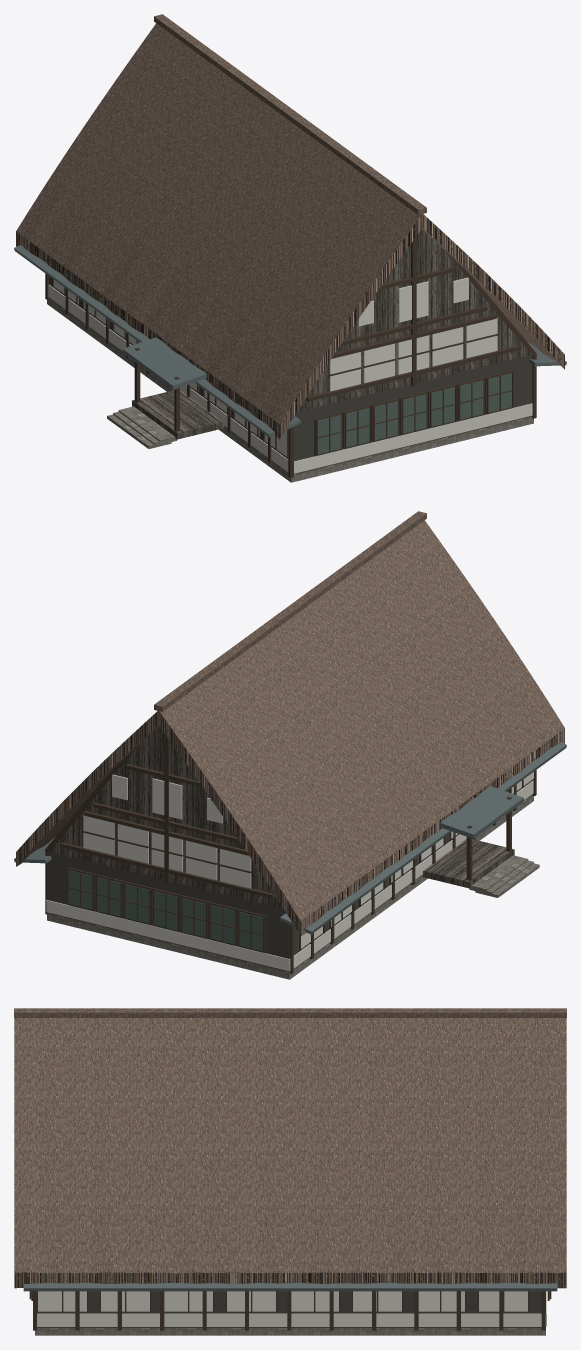
Rendered from wada-precinct.glb.
3 renders of one model, top to bottom at view 1: azimuth 30°, elevation 25°; view 2: azimuth 150°, elevation 25°; view 3: azimuth 270°, elevation 25°, orthographic. The views are drawn at different scales.
Visible parts, largest first — view 1: Curved deep kaya roof, First attic shoji, Formal entry platform, Attic floor belt, Paper light panel, Black plaster ground storey, Entry granite step, Entry canopy; view 2: Curved deep kaya roof, First attic shoji, Formal entry platform, Attic floor belt, Paper light panel, Black plaster ground storey, Entry granite step, Entry canopy; view 3: Curved deep kaya roof, First attic shoji, Entry canopy, Entry granite step, Black plaster ground storey, Attic floor belt.
Part boxes in pixels (x1,y1,x2,y2): Curved deep kaya roof: (16,14,564,439); First attic shoji: (48,277,532,473); Formal entry platform: (132,229,531,439); Attic floor belt: (45,236,536,477); Paper light panel: (318,373,511,454); Black plaster ground storey: (49,276,532,474); Entry granite step: (47,298,533,482); Entry canopy: (14,245,566,437); Curved deep kaya roof: (16,511,564,936); First attic shoji: (46,772,533,971); Formal entry platform: (49,726,514,908); Attic floor belt: (44,733,536,974); Paper light panel: (69,870,262,951); Black plaster ground storey: (47,779,532,972); Entry granite step: (47,794,539,979); Entry canopy: (14,742,566,934); Curved deep kaya roof: (14,1008,566,1288); First attic shoji: (37,1291,546,1326); Entry canopy: (23,1282,557,1291); Entry granite step: (35,1328,545,1335); Black plaster ground storey: (37,1291,545,1327); Attic floor belt: (29,1291,551,1330).
Size of the model in its own units: 18.15 by 12.68 by 24.14.
8 materials, 3 textured.
